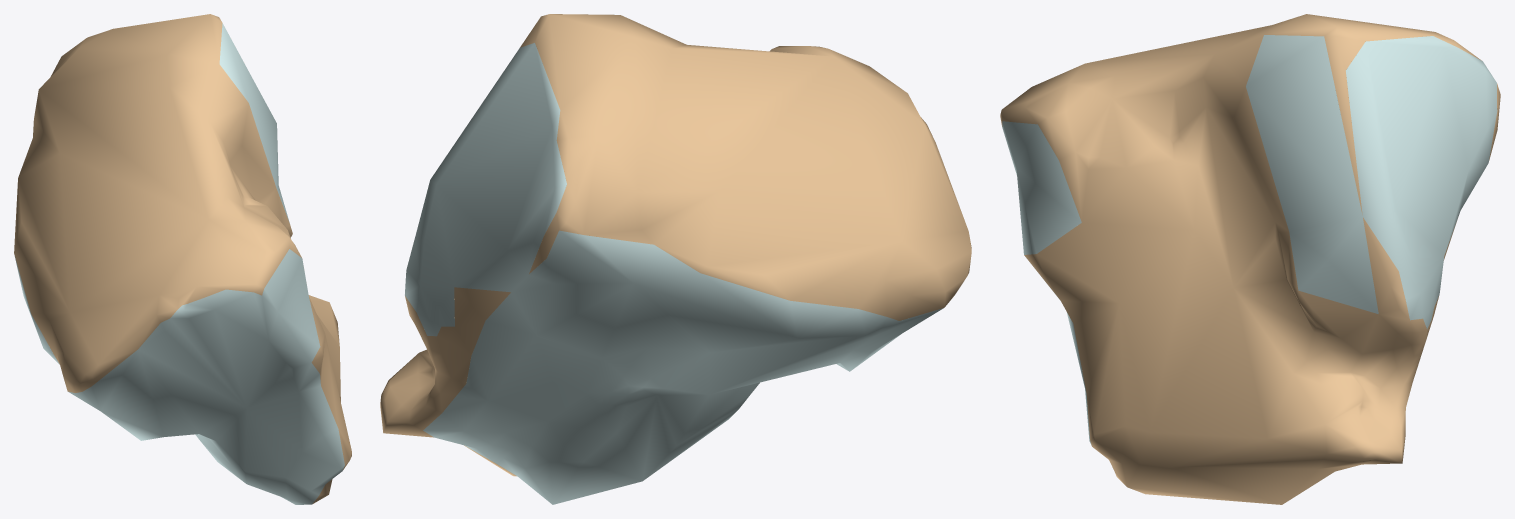
The model's file is Cuneiform_lateral_bone_right.glb.
3 views of the same model, side by side, from view 1: azimuth 30°, elevation 25°; view 2: azimuth 150°, elevation 25°; view 3: azimuth 270°, elevation 25° (orthographic). The views are drawn at different scales.
Visible parts, largest first — view 1: Lateral_cuneiform_bone.r_Generated_Mesh_From_X3D.795; view 2: Lateral_cuneiform_bone.r_Generated_Mesh_From_X3D.795; view 3: Lateral_cuneiform_bone.r_Generated_Mesh_From_X3D.795.
Boxes of the visible parts, left/top/right/bottom form: Lateral_cuneiform_bone.r_Generated_Mesh_From_X3D.795: left=14, top=14, right=351, bottom=504; Lateral_cuneiform_bone.r_Generated_Mesh_From_X3D.795: left=380, top=14, right=971, bottom=504; Lateral_cuneiform_bone.r_Generated_Mesh_From_X3D.795: left=1000, top=14, right=1500, bottom=504.
Size of the model in its own units: 0.0242 by 0.0269 by 0.0265.
